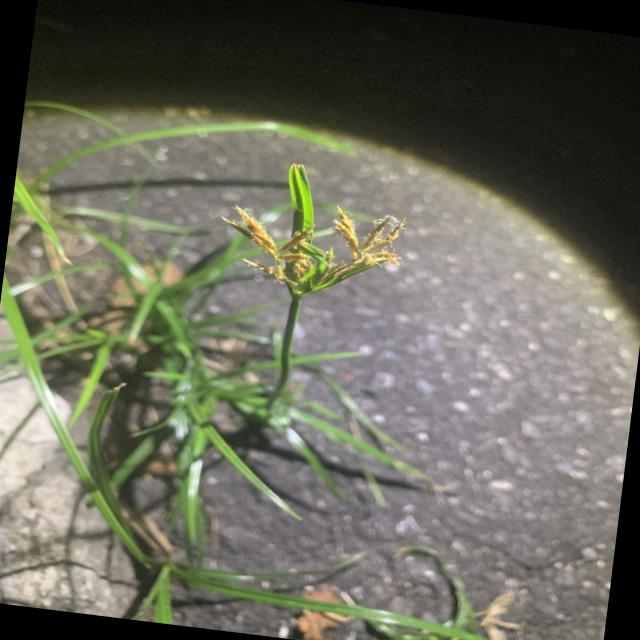cyperus: (212, 153, 426, 324)
